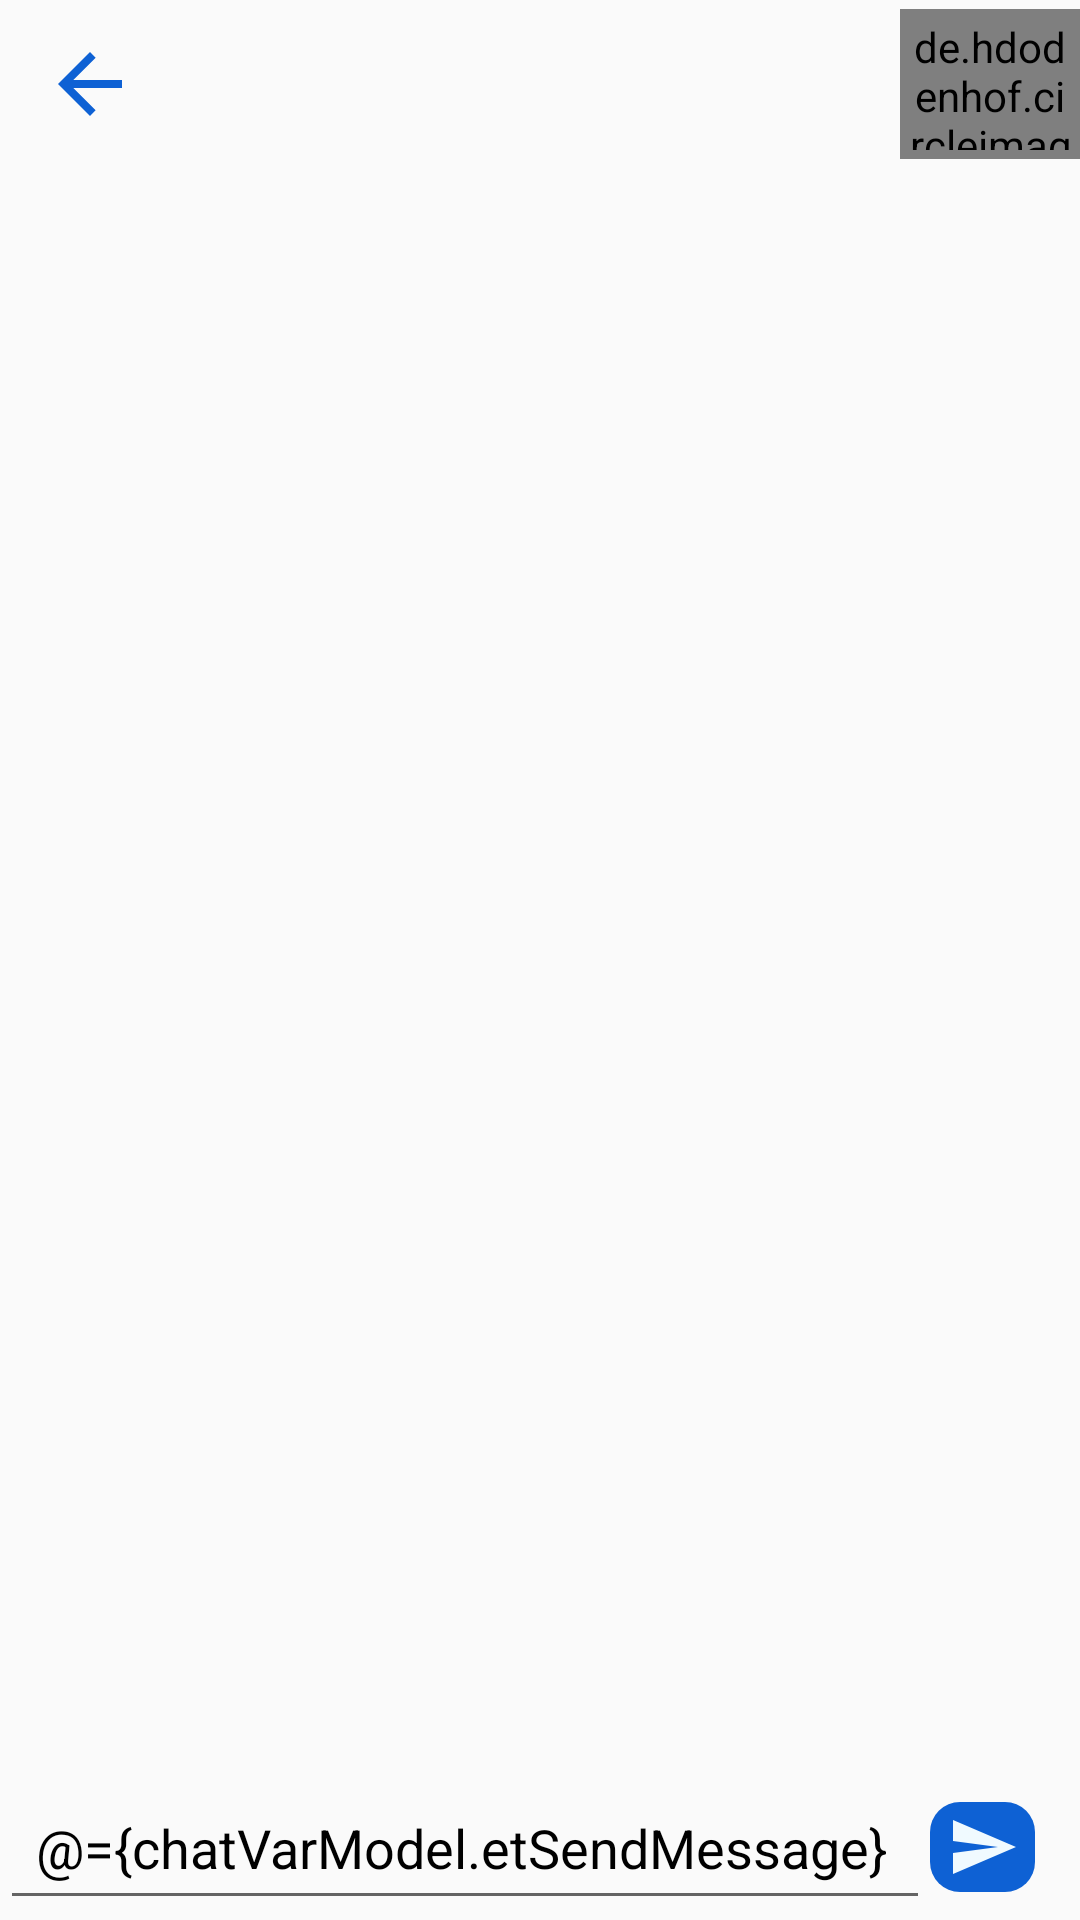

Where icons sit on this 1080px×1920px app screen, as bbox=(x1, y1, x2, y2):
back: bbox=(58, 52, 122, 116)
